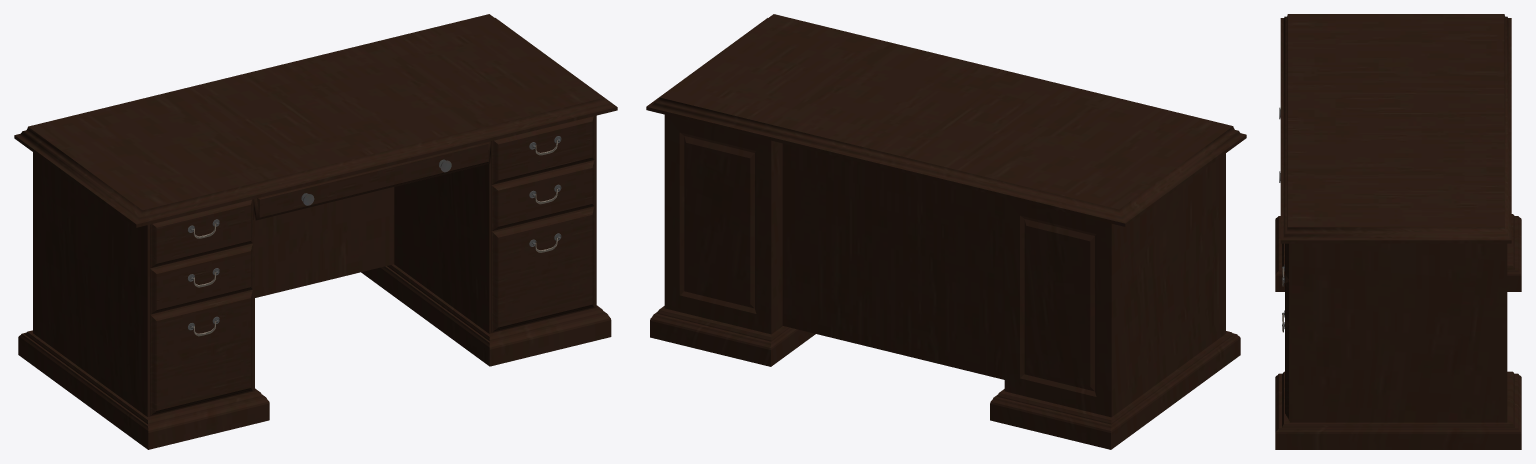
Rendered from desk.glb.
3 renders of one model, left to right at view 1: azimuth 30°, elevation 25°; view 2: azimuth 150°, elevation 25°; view 3: azimuth 270°, elevation 25°, orthographic. The views are drawn at different scales.
Visible parts, largest first — view 1: desk; view 2: desk; view 3: desk.
Part boxes in pixels (<box>): desk: <box>14,14,617,449</box>; desk: <box>646,14,1246,449</box>; desk: <box>1275,14,1521,449</box>.
Bounding box in the file's own units: 1.72 × 0.7999 × 0.8039.
1 material, 1 textured.
